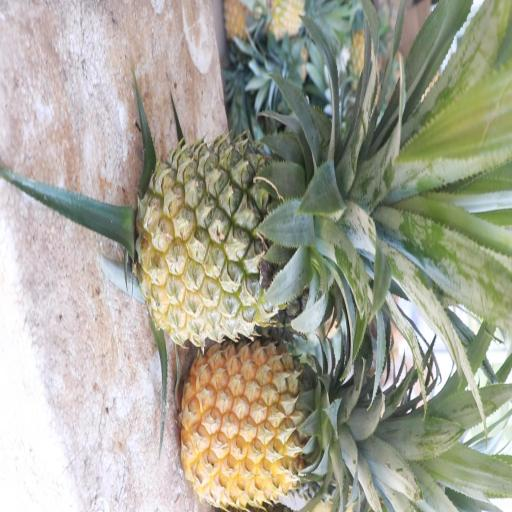------------------------------: (144, 145, 342, 339)
Pineapple - v8 v1: (180, 348, 357, 507)
